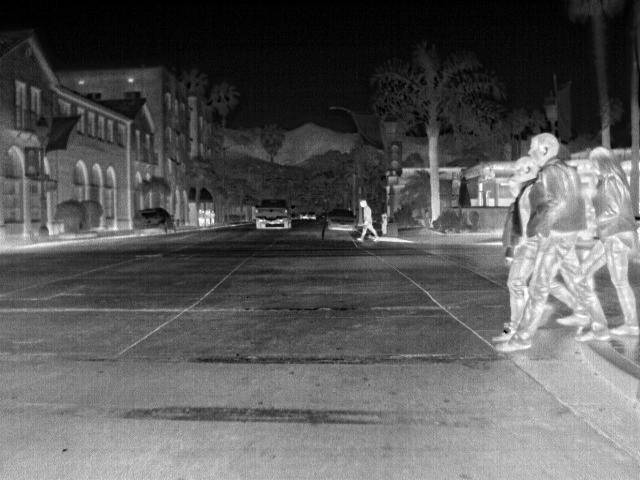car: (253, 198, 295, 232), (133, 207, 179, 237), (324, 207, 358, 233), (304, 210, 317, 221), (297, 210, 309, 221)
person: (494, 132, 609, 354), (582, 146, 637, 338), (489, 156, 541, 343), (354, 196, 382, 243)
